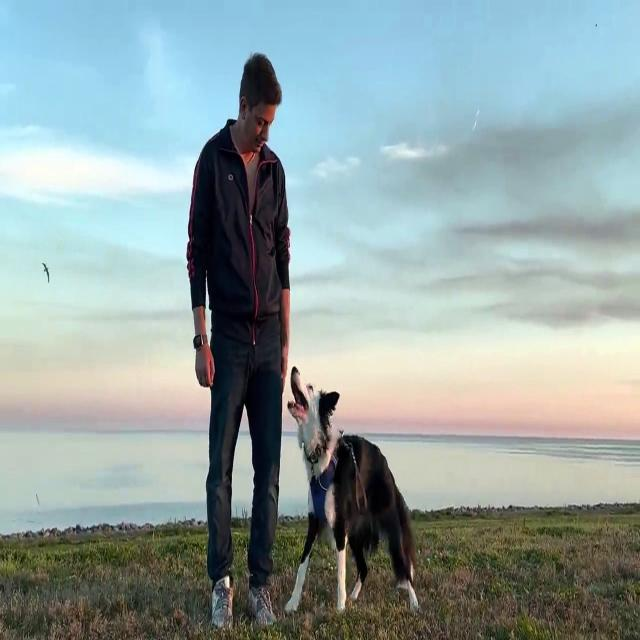Unleashed_Dog: (222, 340, 419, 615)
